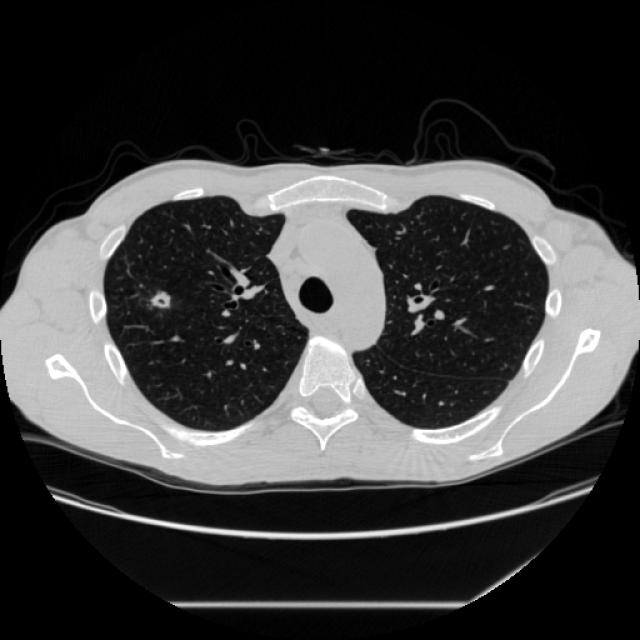nodule: (142, 280, 180, 318)
